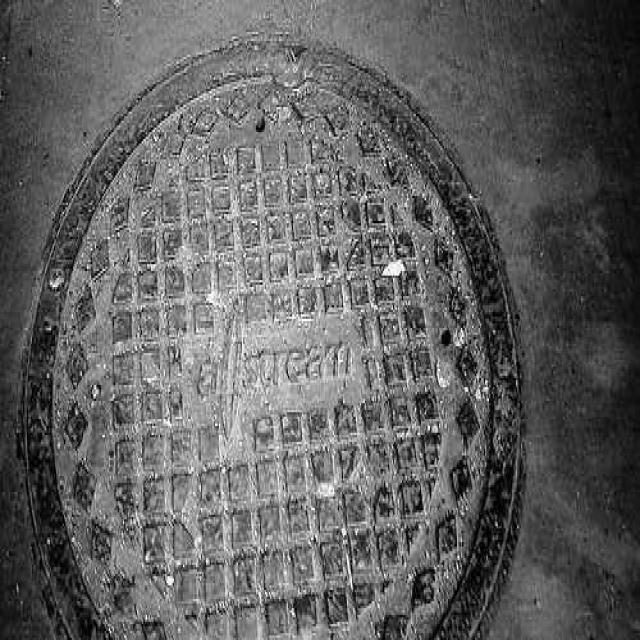manhole: (12, 34, 526, 640)
